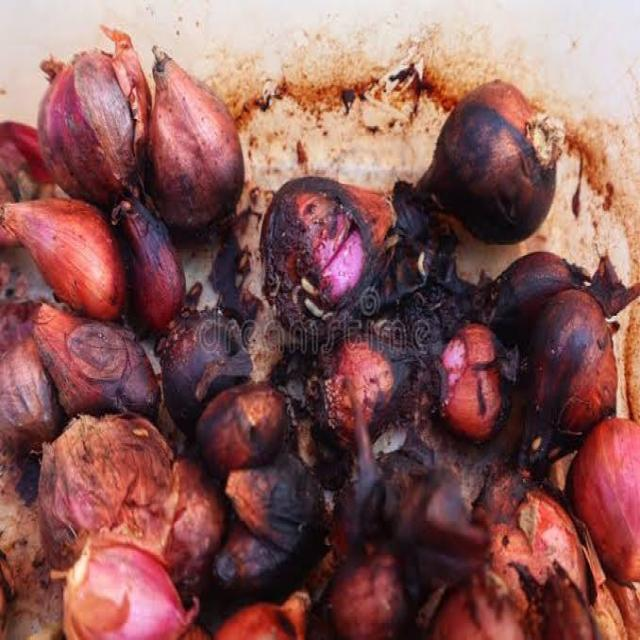rotten: (229, 188, 330, 370), (381, 156, 474, 292), (232, 442, 329, 569), (417, 282, 499, 386)
